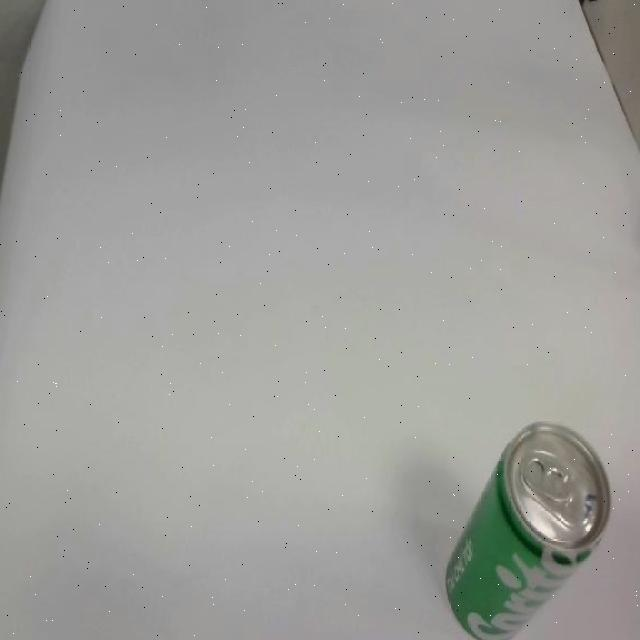debris: (444, 420, 612, 640)
